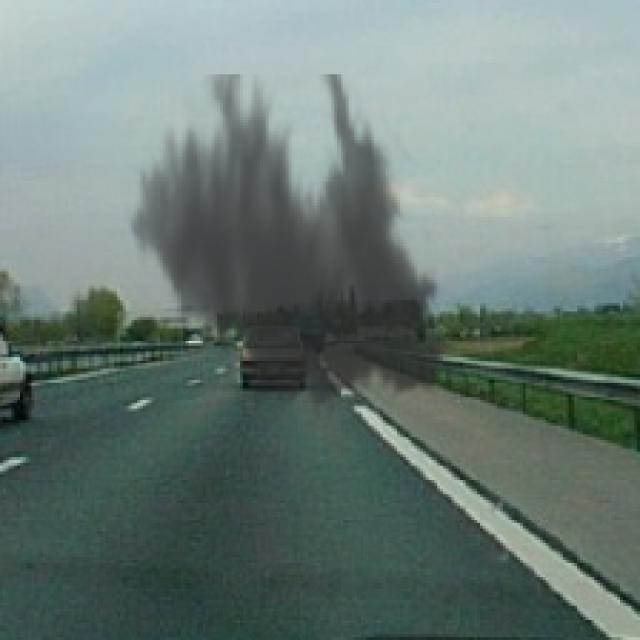smoke: (120, 74, 463, 426)
